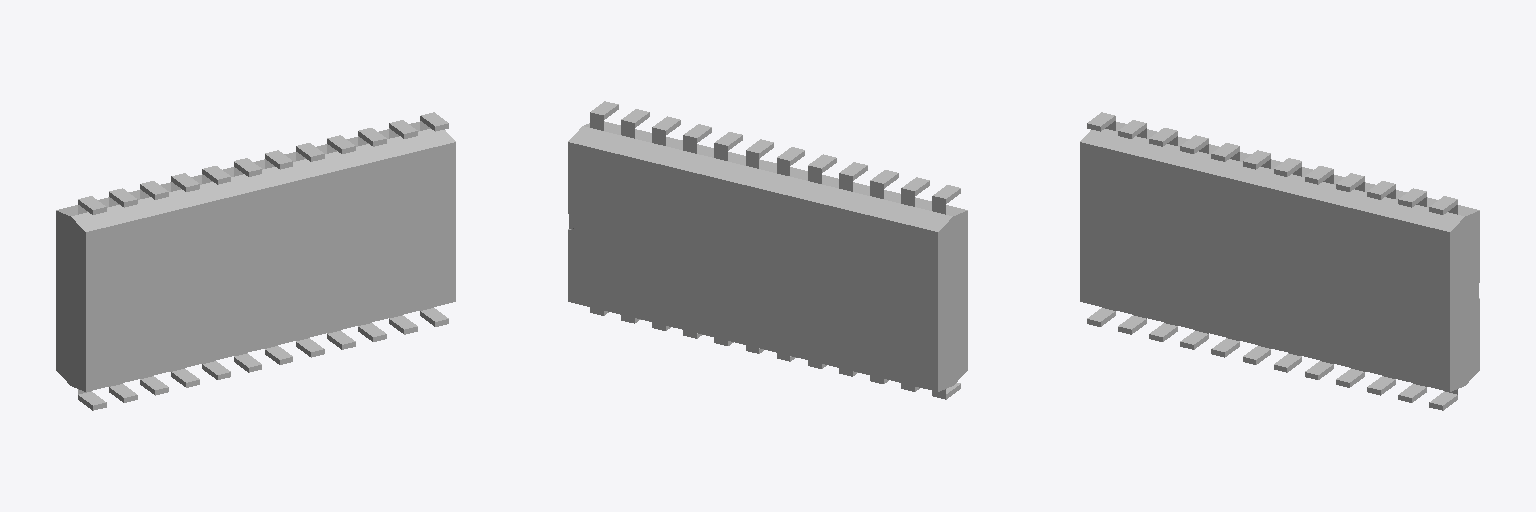
The model's file is DIL-24-6.obj.
3 renders of one model, left to right at view 1: azimuth 30°, elevation 25°; view 2: azimuth 150°, elevation 25°; view 3: azimuth 330°, elevation 25°, orthographic.
Parts seen in each view (by area): view 1: ShapeIndexedFaceSet.049_ShapeIndexedFaceSet.050; view 2: ShapeIndexedFaceSet.049_ShapeIndexedFaceSet.050, ShapeIndexedFaceSet_ShapeIndexedFaceSet.001; view 3: ShapeIndexedFaceSet.049_ShapeIndexedFaceSet.050.
Part boxes in pixels (x1,y1,x2,y2): ShapeIndexedFaceSet.049_ShapeIndexedFaceSet.050: (56, 122, 455, 391); ShapeIndexedFaceSet.049_ShapeIndexedFaceSet.050: (568, 121, 967, 391); ShapeIndexedFaceSet_ShapeIndexedFaceSet.001: (583, 200, 710, 281); ShapeIndexedFaceSet.049_ShapeIndexedFaceSet.050: (1080, 122, 1479, 391).
Bounding box in the file's own units: 30.23 × 15.64 × 4.26.